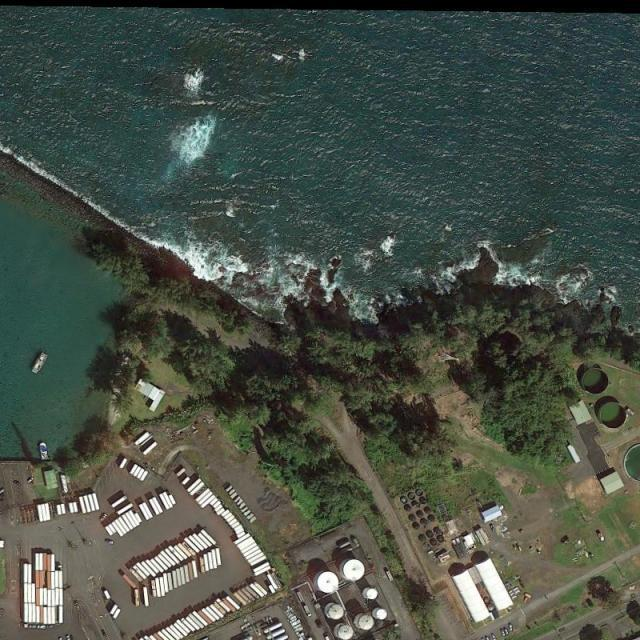vehicle: (100, 513, 109, 522), (101, 628, 109, 637), (490, 633, 497, 640), (27, 478, 35, 484), (13, 481, 22, 486), (501, 629, 506, 638), (504, 628, 510, 635), (1, 494, 6, 502), (106, 540, 114, 544), (46, 625, 54, 629), (38, 626, 46, 630), (30, 625, 38, 629), (1, 488, 6, 494), (510, 624, 513, 631), (70, 635, 74, 640), (66, 635, 70, 640), (486, 636, 490, 640), (59, 638, 64, 640), (482, 638, 485, 640), (1, 610, 2, 614), (1, 614, 2, 618)
